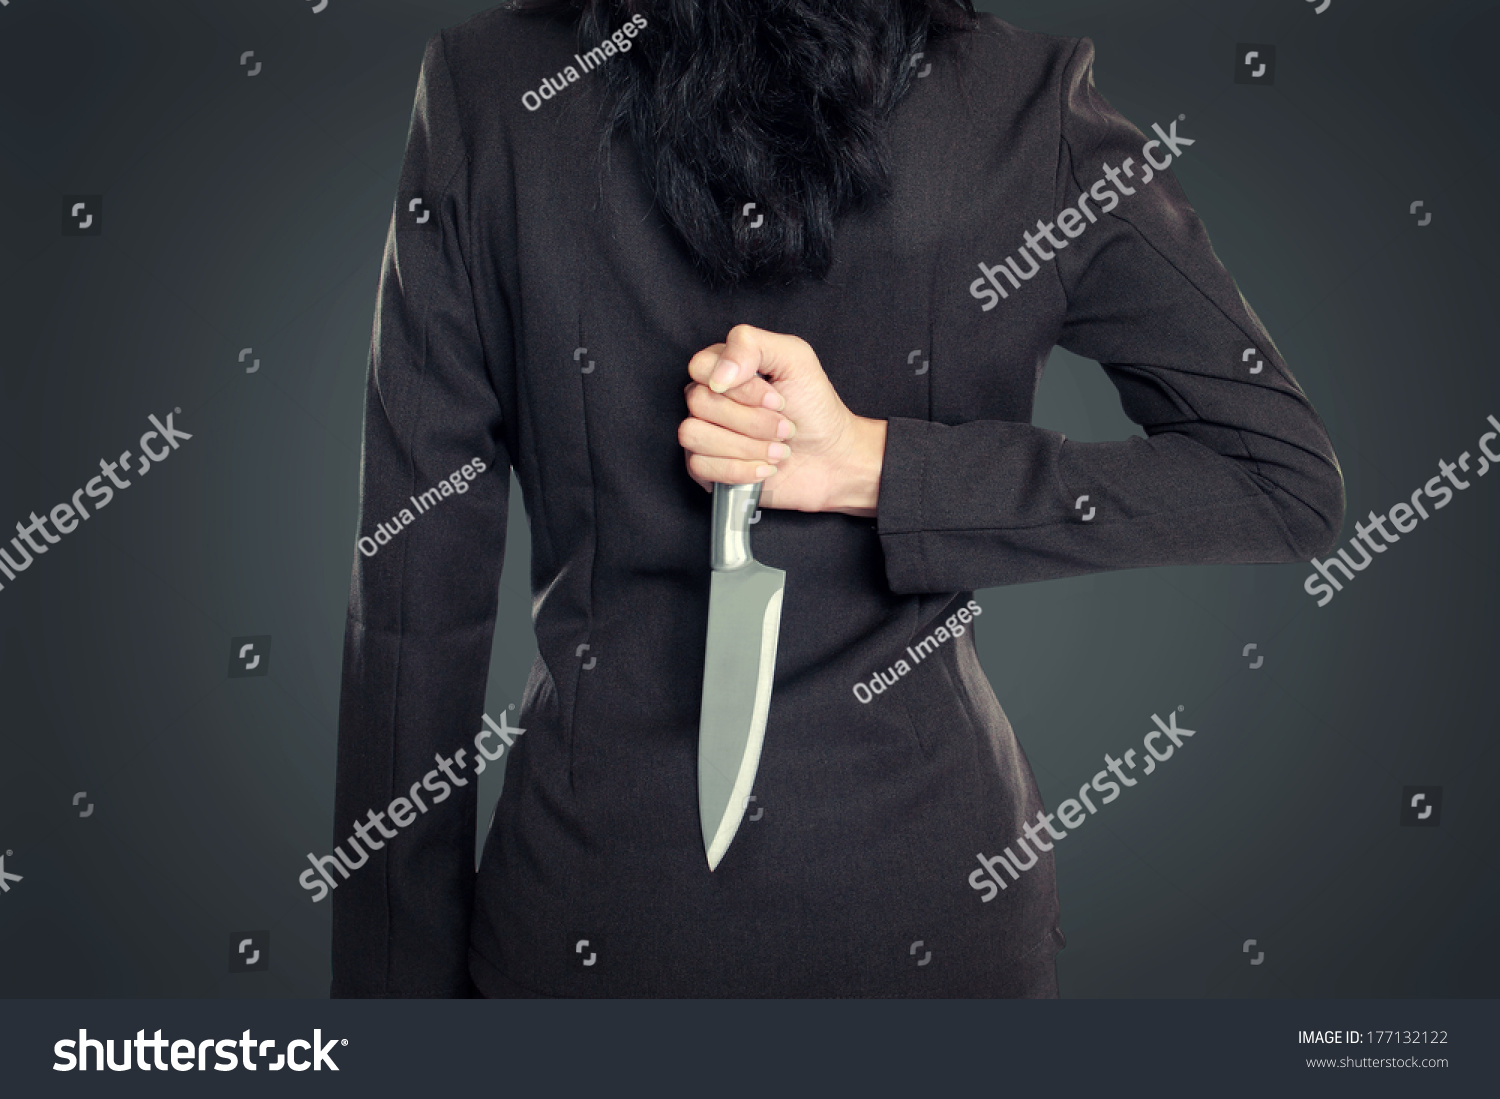knife: (672, 317, 795, 882)
